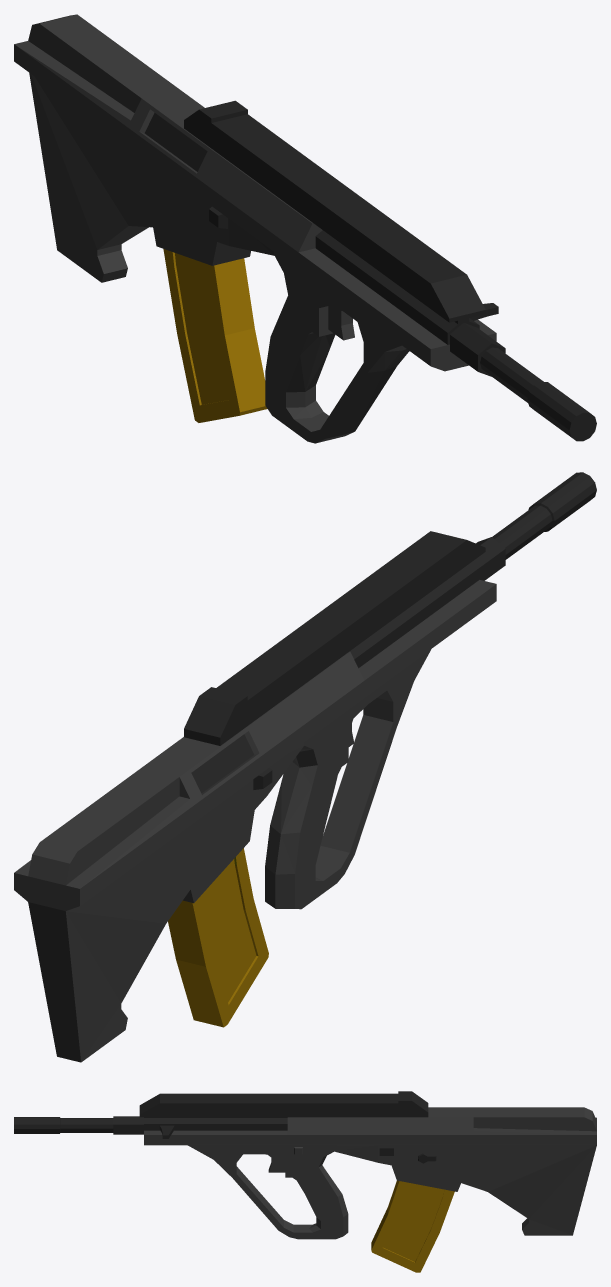
Rendered from Proto_Rifle_Body_01.fbx.
3 views of the same model, one above another, from view 1: azimuth 30°, elevation 25°; view 2: azimuth 150°, elevation 25°; view 3: azimuth 270°, elevation 25° (orthographic). The views are drawn at different scales.
Visible parts, largest first — view 1: Proto_Rifle_Body_01; view 2: Proto_Rifle_Body_01; view 3: Proto_Rifle_Body_01.
Part boxes in pixels (bbox=[...]): Proto_Rifle_Body_01: bbox=[14, 14, 596, 443]; Proto_Rifle_Body_01: bbox=[14, 472, 596, 1062]; Proto_Rifle_Body_01: bbox=[14, 1091, 596, 1272].
Bounding box in the file's own units: 0.071 × 0.253 × 0.7743.
